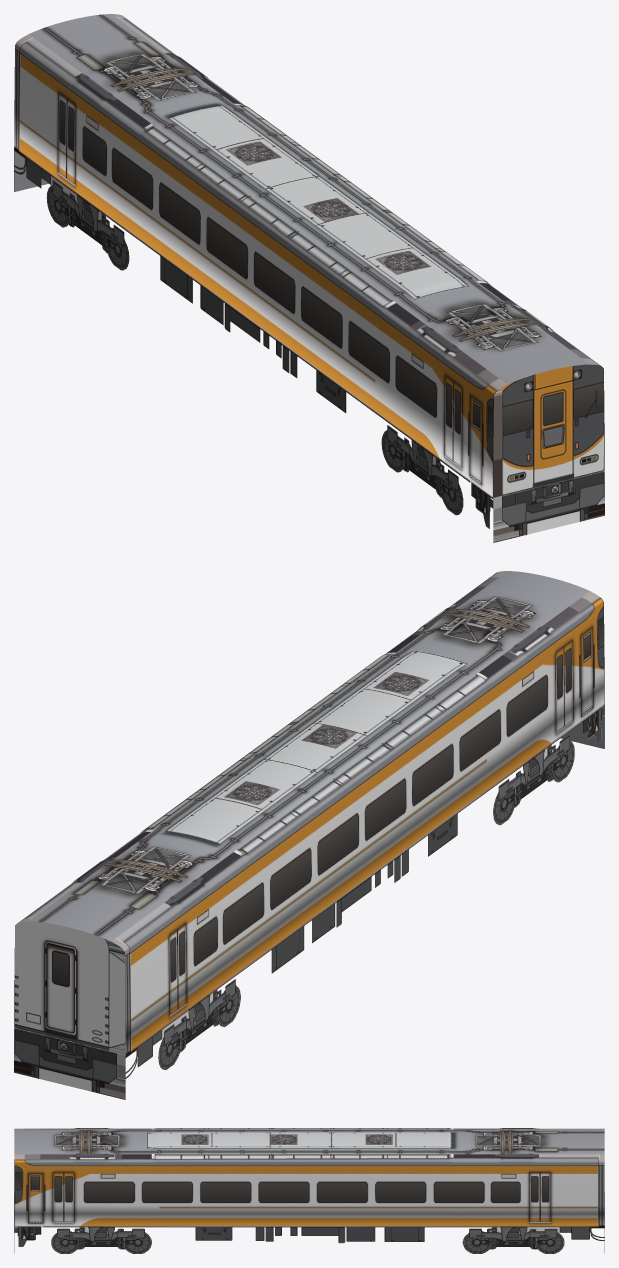
The model's file is car1.glb.
3 views of the same model, one above another, from view 1: azimuth 30°, elevation 25°; view 2: azimuth 150°, elevation 25°; view 3: azimuth 270°, elevation 25° (orthographic). The views are drawn at different scales.
Parts seen in each view (by area): view 1: kintetsu-12400-car1; view 2: kintetsu-12400-car1; view 3: kintetsu-12400-car1.
Boxes of the visible parts, x1,y1,x2,y2 form: kintetsu-12400-car1: (14,14,604,542); kintetsu-12400-car1: (14,571,604,1099); kintetsu-12400-car1: (14,1128,604,1253).
Size of the model in its own units: 2.8 by 3.82 by 20.85.
Materials: 8 (7 with a texture image).
